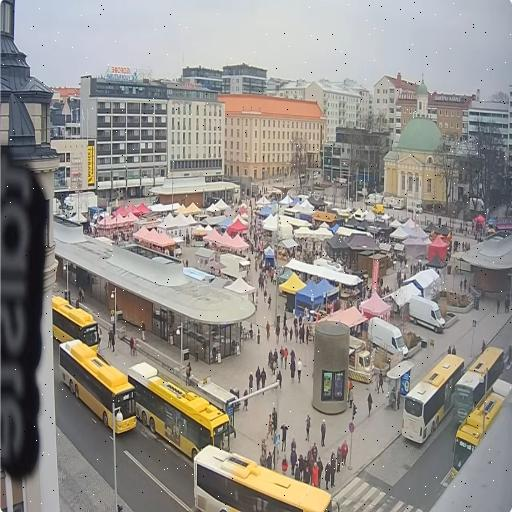Bus: (128, 361, 230, 457), (192, 446, 332, 511), (57, 336, 135, 433), (402, 353, 460, 441), (453, 375, 509, 453), (454, 348, 502, 420), (49, 294, 99, 350)
Delivery: (367, 319, 404, 363), (409, 297, 444, 332), (347, 338, 370, 376)
